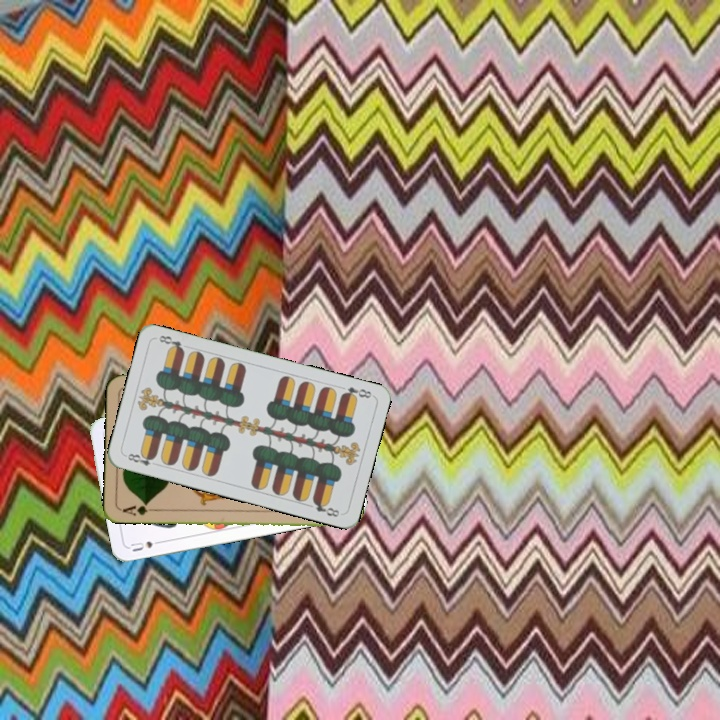E8: (122, 449, 161, 469), (337, 383, 374, 402)
GA: (119, 499, 158, 518)
SU: (127, 536, 166, 554)
